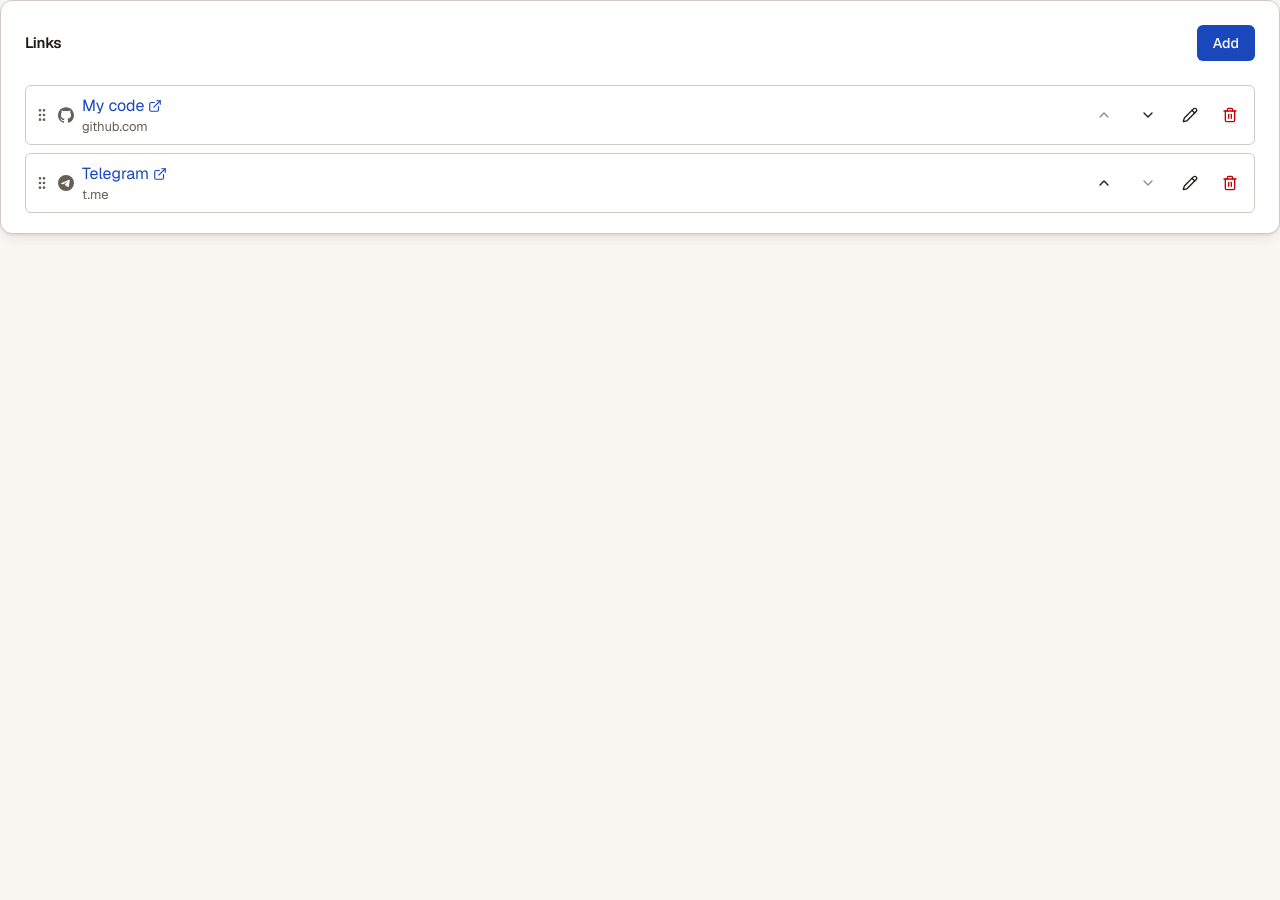
Scenario: the links card holds one editor at a time › closes the editor when editing is cancelled, leaving no form behind
Click the button named "Edit My code" at [1190, 115], box x1=1174 y1=99 x2=1206 y2=131
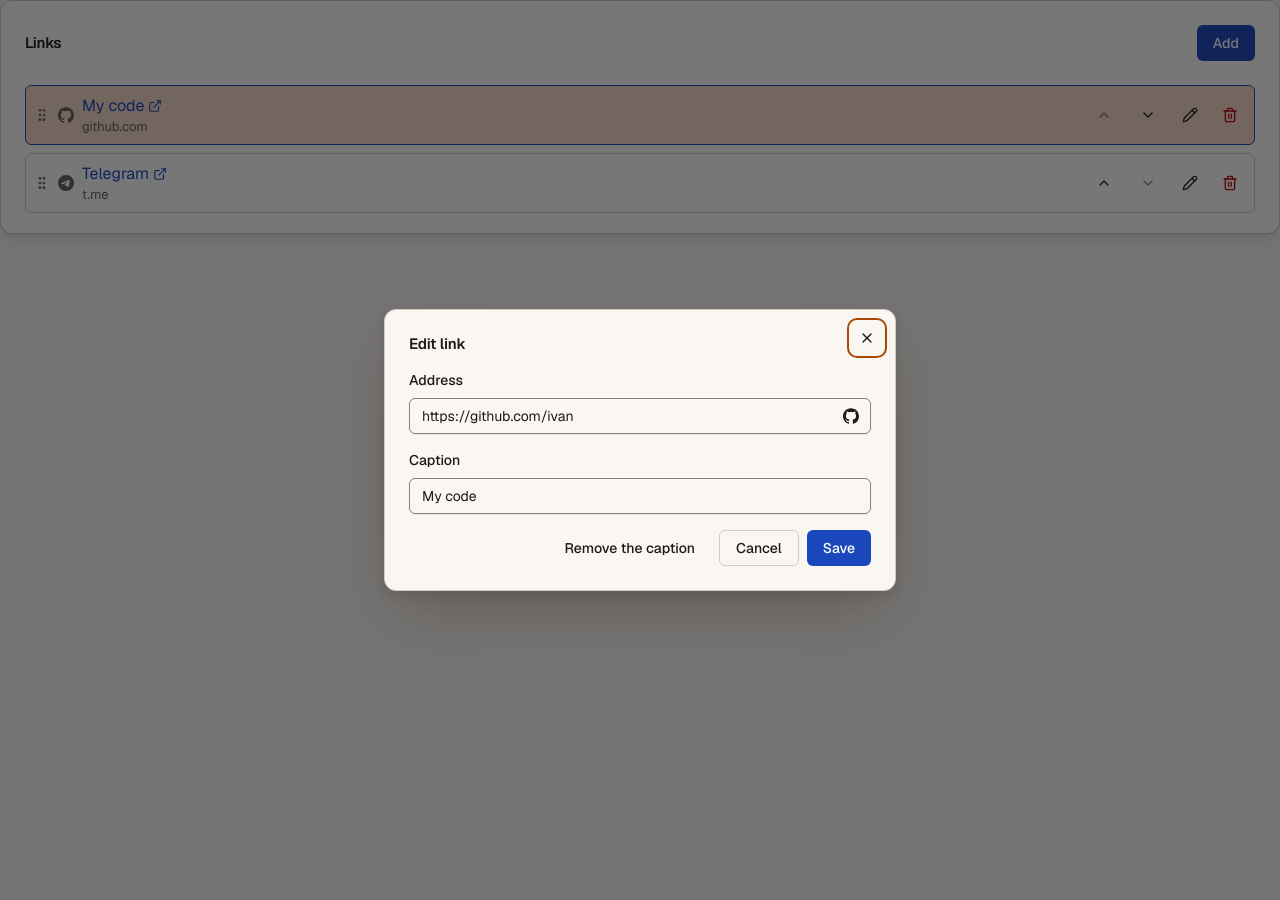
Click the button "Cancel" at [759, 548], box x1=719 y1=530 x2=799 y2=566
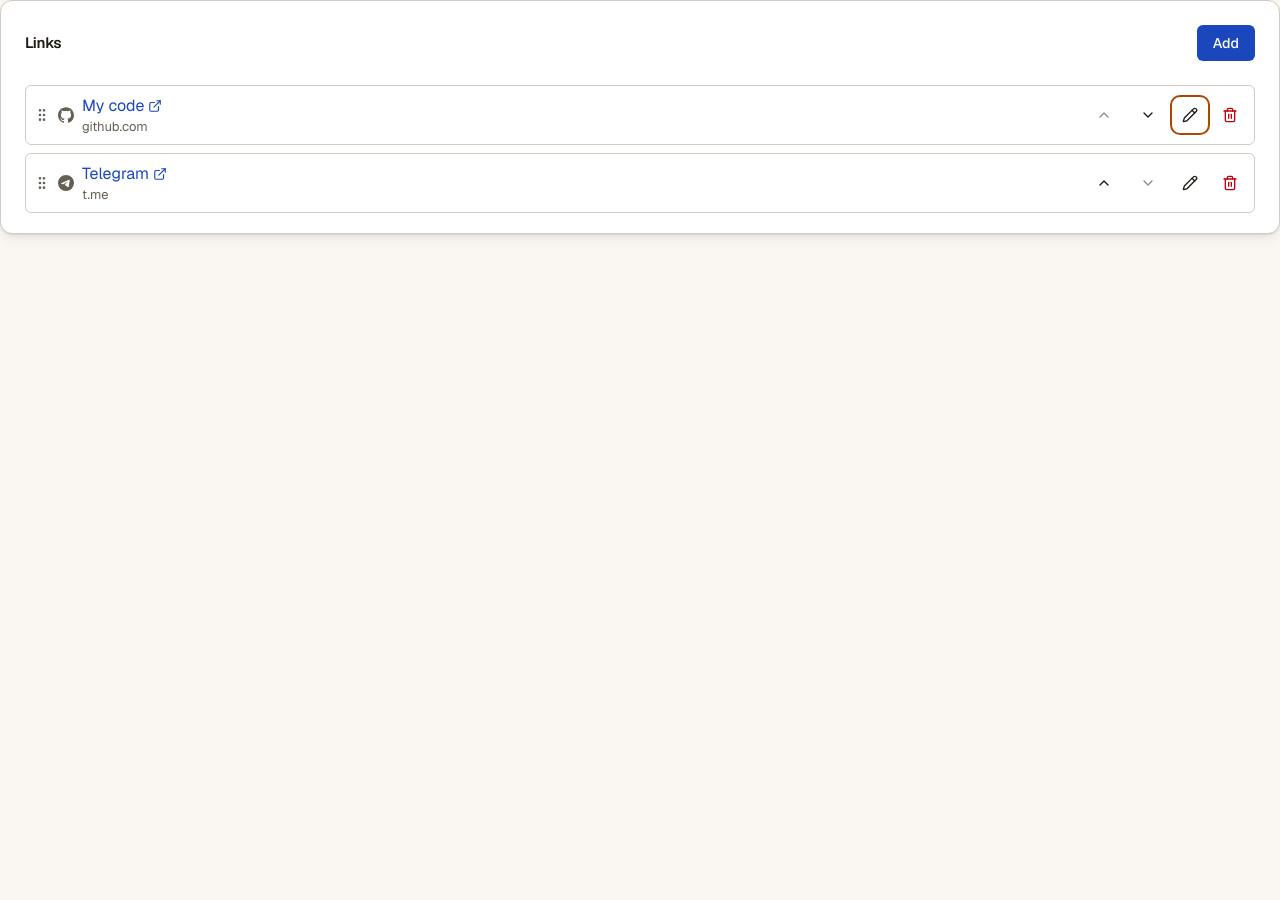
expect the button "Add" is shown: met, box x1=1197 y1=25 x2=1255 y2=61
expect no labels labelled "Address" are shown: met
